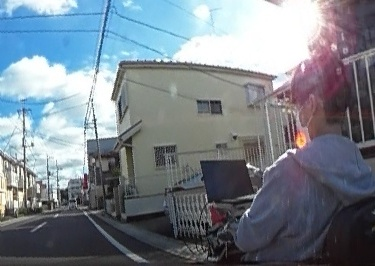person: (217, 42, 361, 264)
